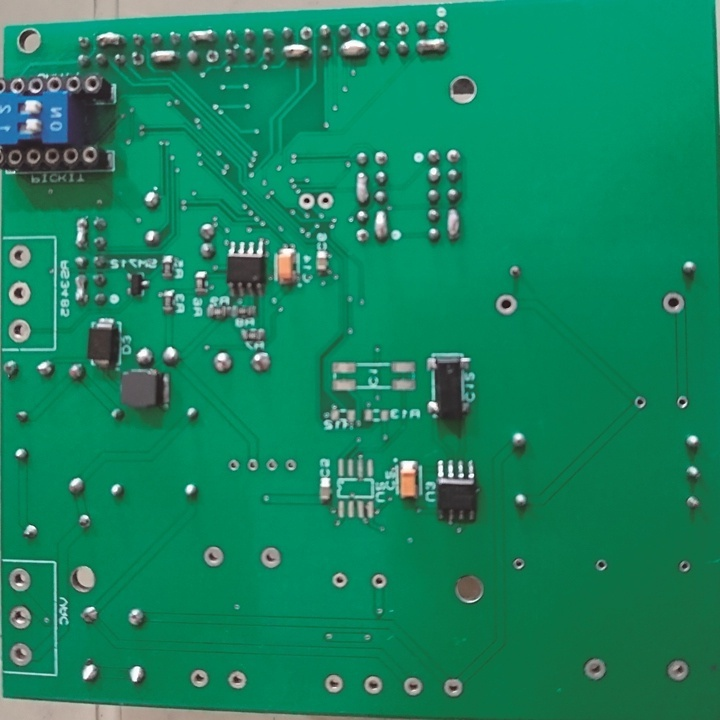F: (7, 603, 35, 631), (7, 566, 32, 595), (259, 543, 284, 572), (665, 656, 691, 683), (582, 656, 608, 683), (7, 640, 32, 668), (7, 280, 33, 306), (662, 290, 687, 317), (494, 292, 521, 317), (7, 243, 33, 268), (7, 318, 32, 343), (201, 545, 226, 568), (441, 677, 464, 700), (361, 674, 384, 696), (401, 675, 423, 698), (227, 669, 249, 691), (324, 673, 345, 695), (315, 190, 334, 212), (190, 667, 209, 689), (330, 569, 349, 590), (129, 49, 146, 68), (370, 572, 387, 591), (299, 192, 315, 210), (632, 394, 648, 412), (394, 20, 411, 36), (434, 18, 450, 35), (592, 558, 609, 574), (203, 48, 221, 63), (353, 228, 371, 243), (373, 150, 389, 166), (299, 24, 314, 41), (356, 20, 370, 38), (676, 394, 690, 412), (446, 148, 462, 163), (687, 494, 700, 512), (508, 263, 522, 279), (264, 457, 277, 474), (246, 458, 259, 474), (227, 458, 240, 473), (679, 559, 691, 575), (284, 457, 296, 472), (513, 557, 525, 571)
P: (413, 37, 450, 56), (353, 169, 371, 206), (445, 208, 463, 245), (373, 208, 391, 243), (281, 43, 313, 62), (336, 40, 368, 58), (93, 31, 124, 49), (187, 28, 217, 45), (149, 49, 179, 66), (73, 215, 88, 249), (73, 274, 87, 303)
